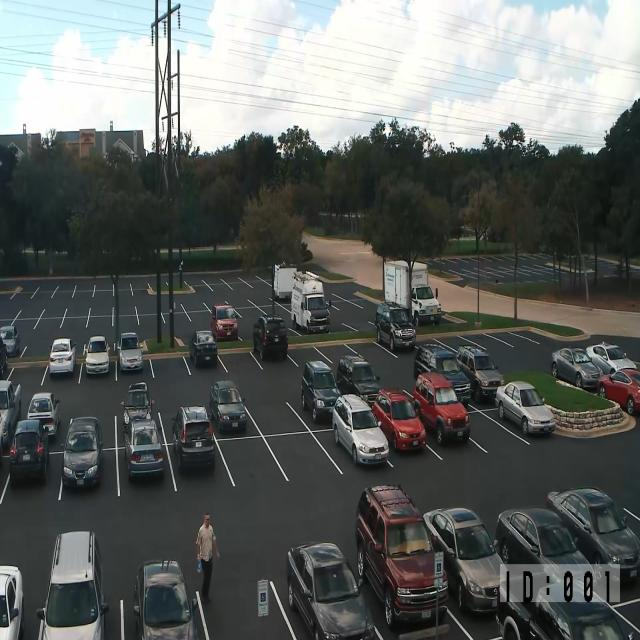car: (355, 483, 448, 629), (494, 506, 595, 603), (496, 573, 640, 639), (422, 506, 506, 616), (546, 486, 640, 583), (286, 541, 376, 639), (36, 530, 109, 639), (133, 558, 201, 640), (528, 598, 640, 639), (413, 371, 470, 446), (332, 393, 389, 466), (372, 388, 427, 452), (495, 381, 556, 436), (61, 415, 103, 489), (172, 405, 215, 472), (456, 344, 504, 402), (9, 418, 49, 482), (428, 350, 471, 409), (124, 417, 164, 480), (301, 360, 341, 422), (336, 354, 381, 408), (551, 346, 602, 391), (596, 368, 640, 415), (209, 379, 247, 433), (375, 302, 416, 351), (0, 378, 21, 464), (0, 564, 24, 639), (121, 381, 154, 433), (586, 341, 637, 374), (414, 340, 456, 380), (252, 314, 288, 360), (27, 392, 60, 438), (411, 283, 441, 327), (189, 330, 218, 368), (83, 335, 110, 375), (116, 332, 143, 372), (211, 302, 238, 342), (49, 337, 76, 375), (0, 324, 20, 357), (0, 337, 8, 375)
